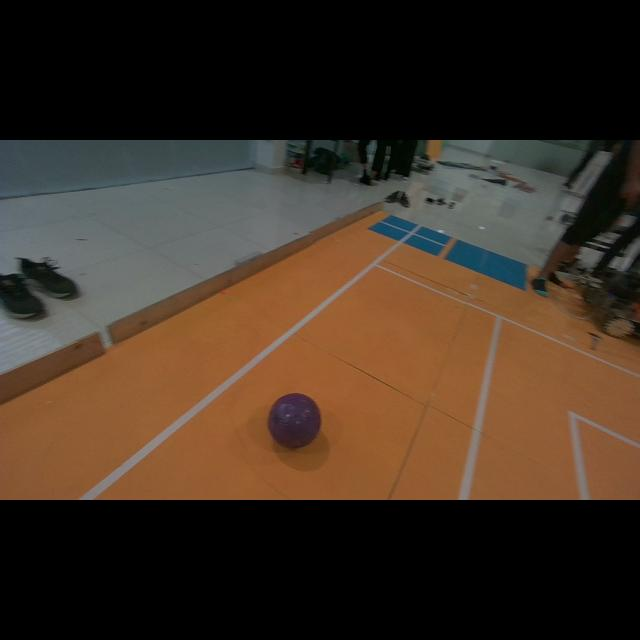P: (269, 394, 321, 449)
